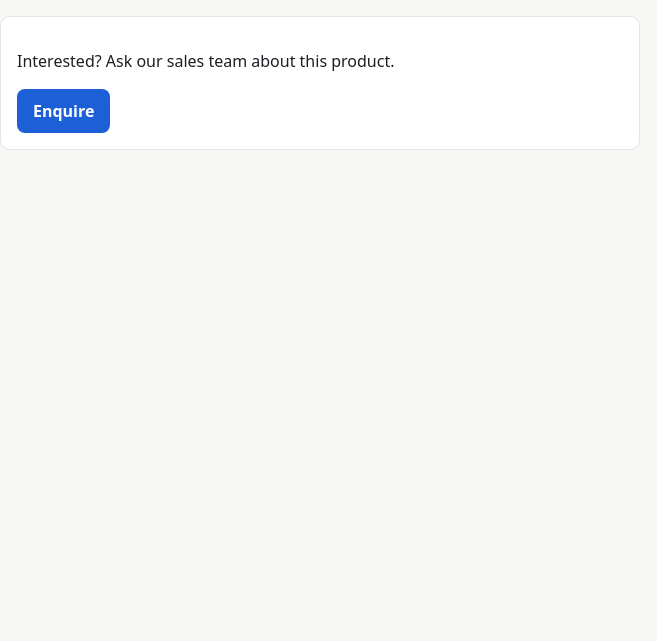
Test case: EnquiryForm › shows a failure message and keeps the form when submission fails
Click the button "Enquire" at x=64, y=111, box [17,89,110,133]
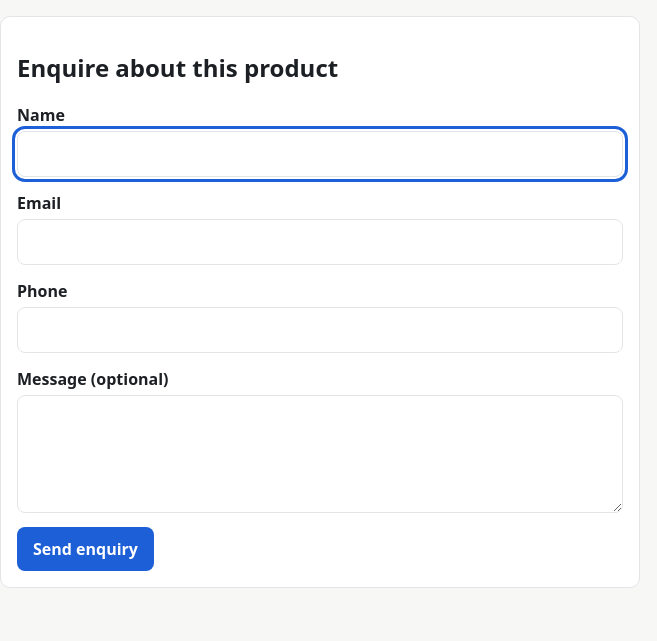
Type "Jane Doe" into the field labelled "Name" at x=320, y=154, box [17,131,623,177]
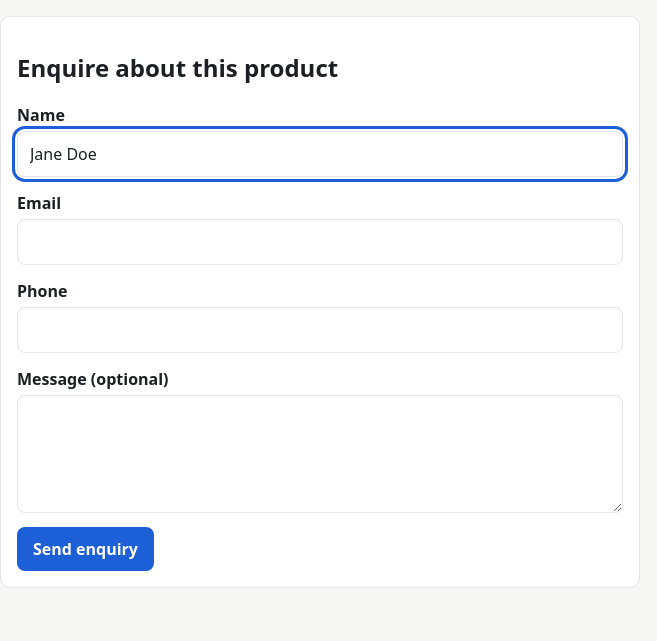
Type "jane@example.com" into the field labelled "Email" at x=320, y=242, box [17,219,623,265]
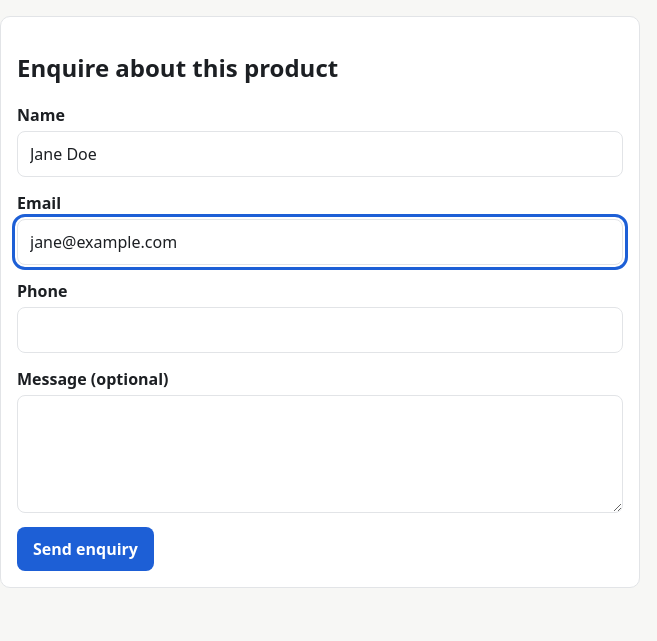
Type "+91 98765 43210" into the field labelled "Phone" at x=320, y=330, box [17,307,623,353]
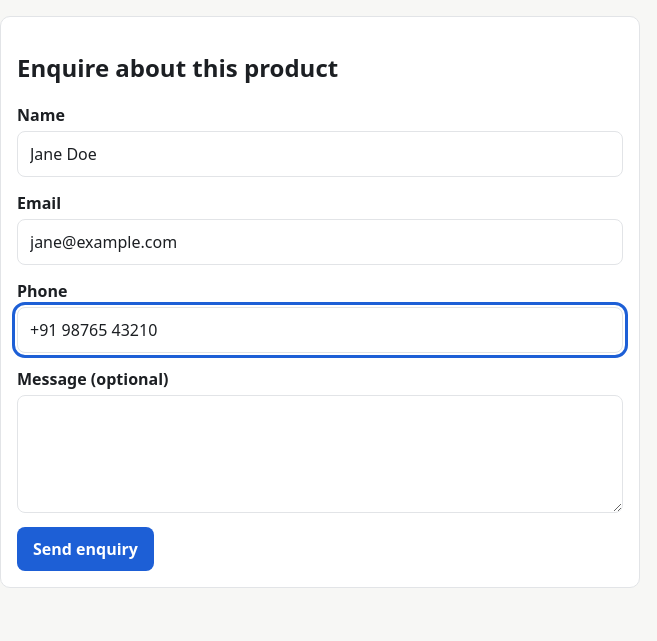
Type "Do you ship to Pune?" into the text box labelled "Message (optional)" at x=320, y=454, box [17,395,623,513]
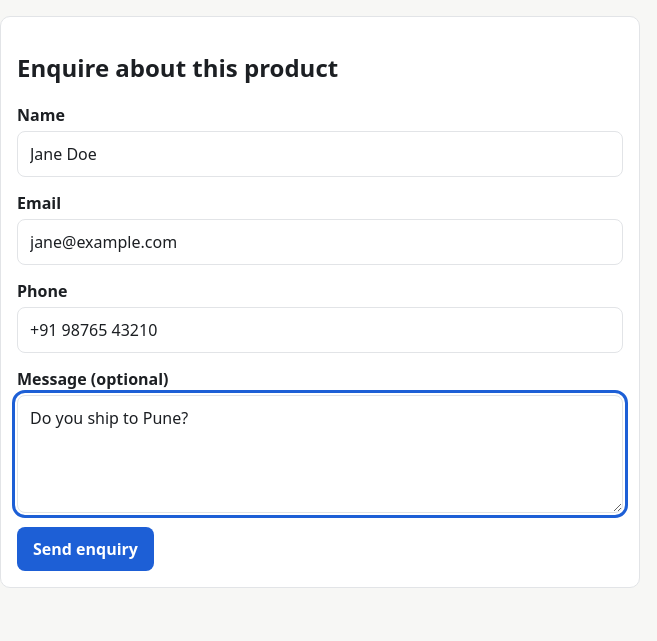
Click the button "Send enquiry" at x=85, y=549, box [17,527,154,571]
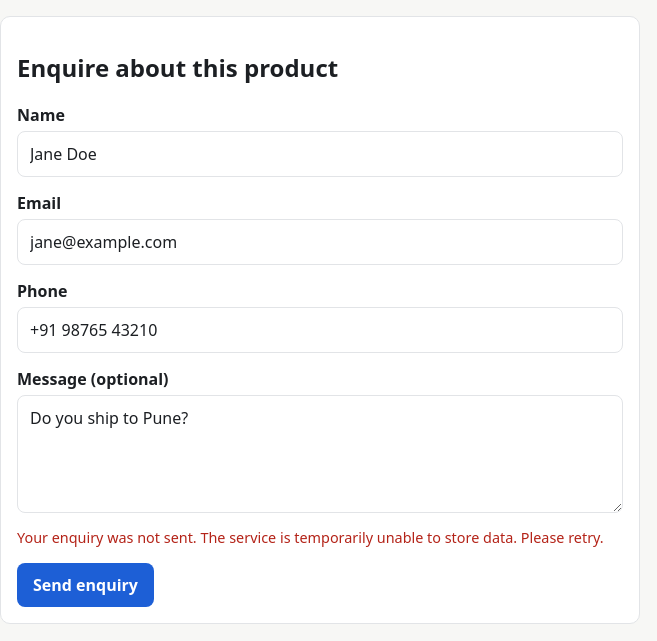
Check: the message shows "Your enquiry was not sent. The service is temporarily unable to store data.", box [17,528,604,547]
